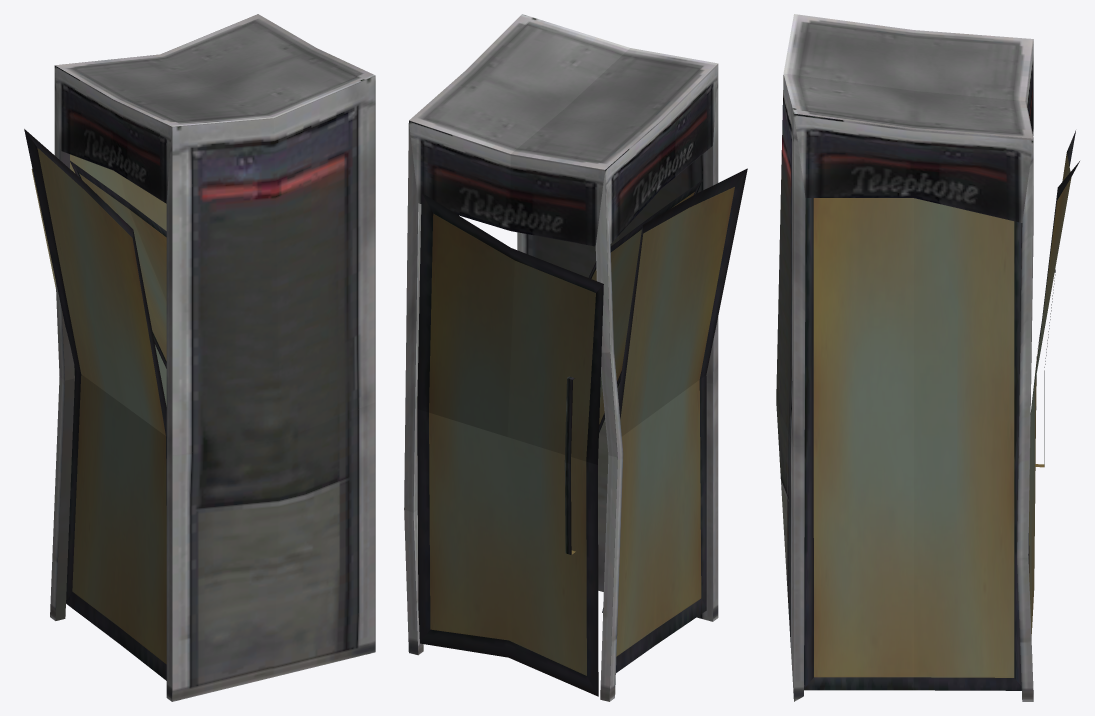
The model's file is Model_PhoneBooth_Wrecked.fbx.
3 views of the same model, side by side, from view 1: azimuth 30°, elevation 25°; view 2: azimuth 150°, elevation 25°; view 3: azimuth 270°, elevation 25° (orthographic). The views are drawn at different scales.
Parts seen in each view (by area): view 1: PhoneBooth_Wrecked; view 2: PhoneBooth_Wrecked; view 3: PhoneBooth_Wrecked.
Part boxes in pixels (<box>): PhoneBooth_Wrecked: <box>24,14,375,701</box>; PhoneBooth_Wrecked: <box>404,14,747,701</box>; PhoneBooth_Wrecked: <box>776,14,1079,701</box>.
Size of the model in its own units: 104 by 234 by 110.
